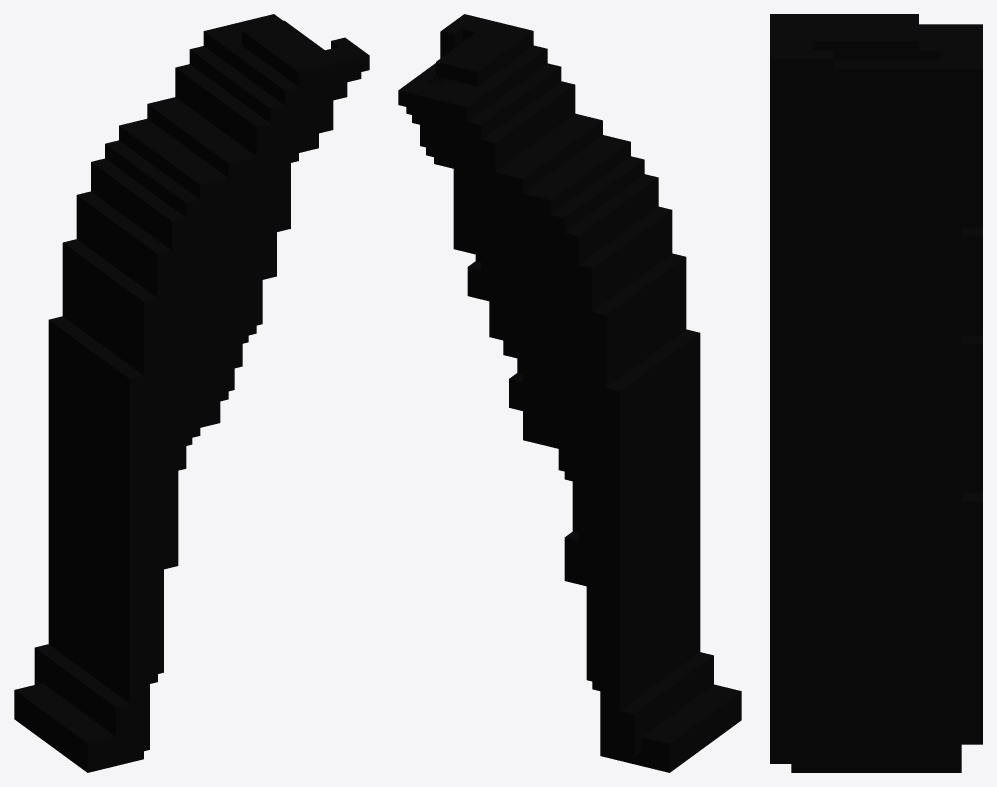
File: shadow_right_foot.obj
3 renders of one model, left to right at view 1: azimuth 30°, elevation 25°; view 2: azimuth 150°, elevation 25°; view 3: azimuth 270°, elevation 25°, orthographic. The views are drawn at different scales.
Size of the model in its own units: 2 by 4.4 by 1.
Materials: 1 (1 with a texture image).
